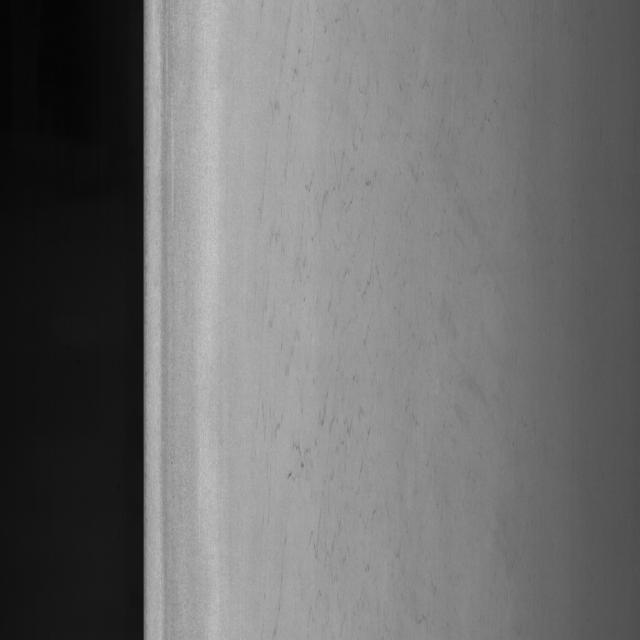inclusion: (264, 41, 449, 533)
